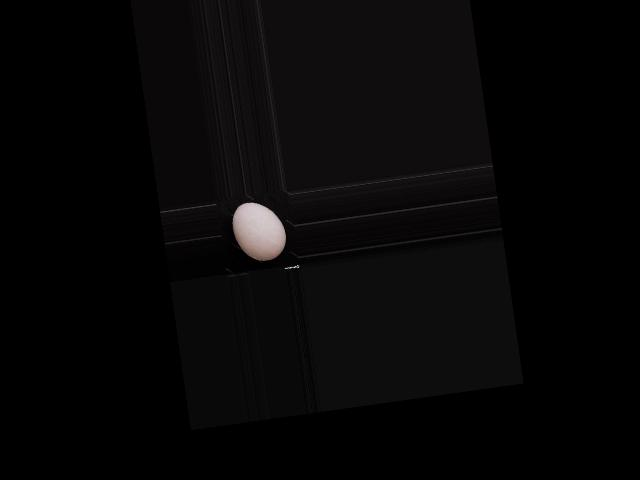egg: (229, 198, 288, 264)
